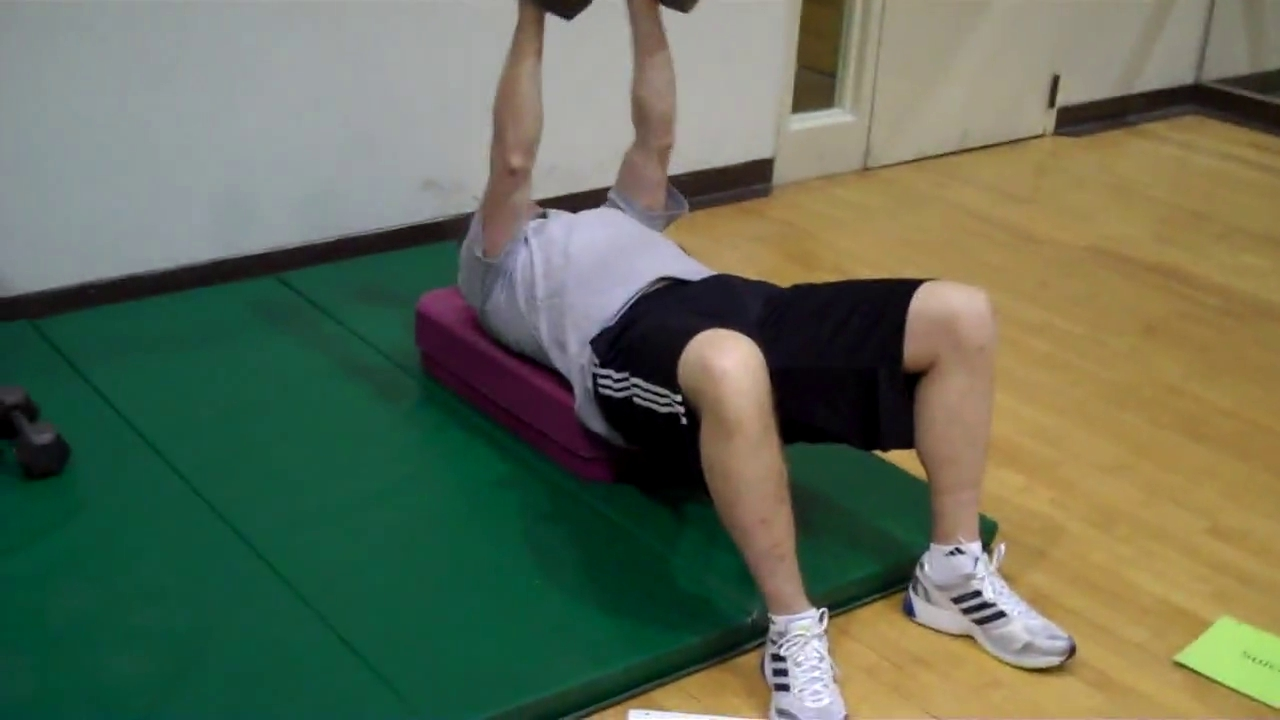person: (457, 1, 1077, 720)
